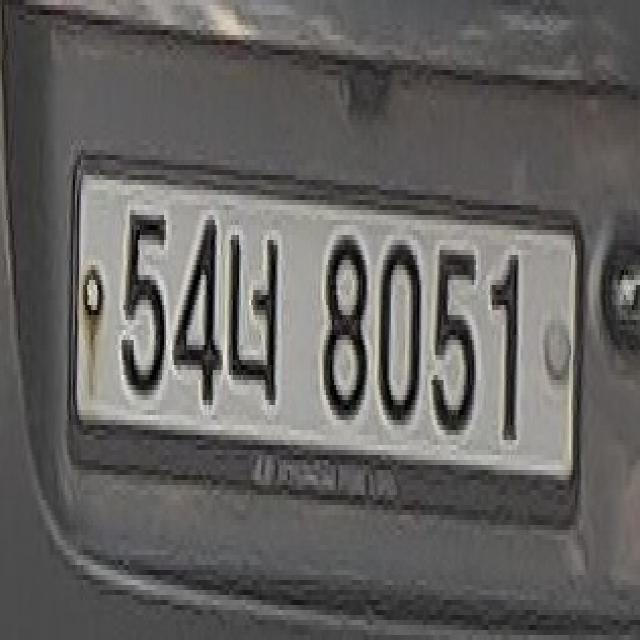0: (375, 205, 431, 465)
1: (480, 245, 531, 465)
4: (170, 195, 229, 435)
5: (423, 235, 480, 460), (118, 185, 172, 415)
8: (316, 215, 375, 435)
license_plate: (59, 150, 587, 545)
neo: (220, 210, 288, 405)
